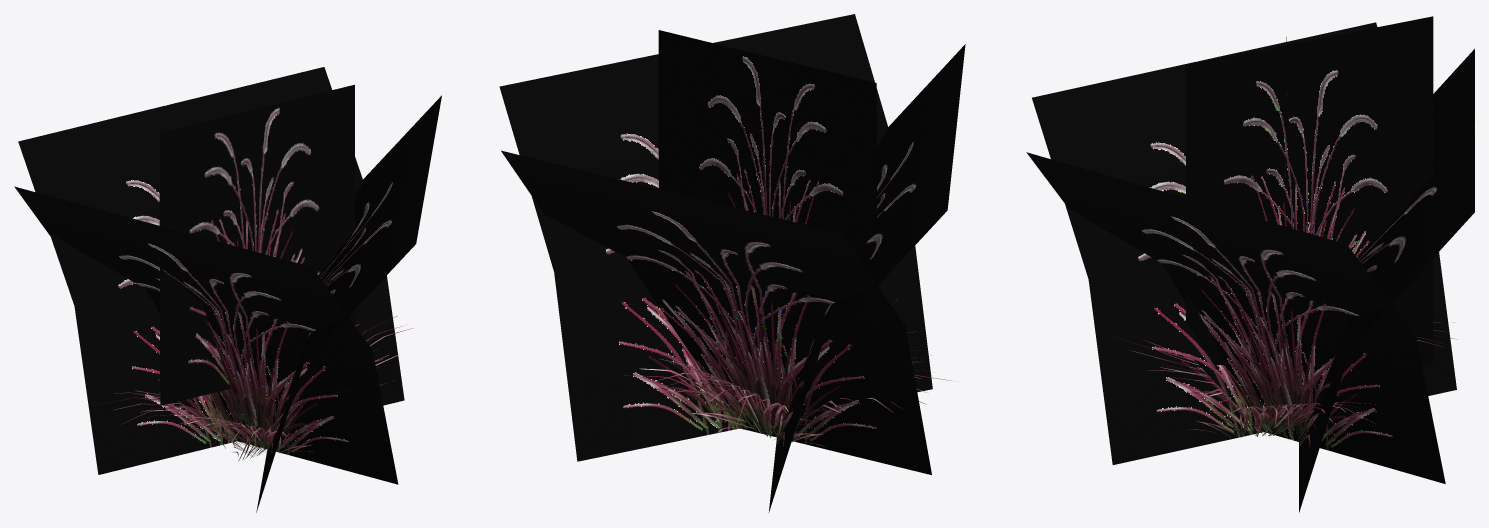
Rendered from Arbusto_CapimDoTexas.fbx.
The picture shows the model from 3 angles, left to right: view 1: azimuth 30°, elevation 25°; view 2: azimuth 150°, elevation 25°; view 3: azimuth 270°, elevation 25°; orthographic projection. The views are drawn at different scales.
Parts seen in each view (by area): view 1: Plane.065; view 2: Plane.065; view 3: Plane.065.
Boxes of the visible parts, x1,y1,x2,y2 form: Plane.065: [14, 67, 441, 512]; Plane.065: [499, 14, 965, 512]; Plane.065: [1026, 16, 1474, 512].
Size of the model in its own units: 116 by 105 by 99.11.
2 materials, 2 textured.
